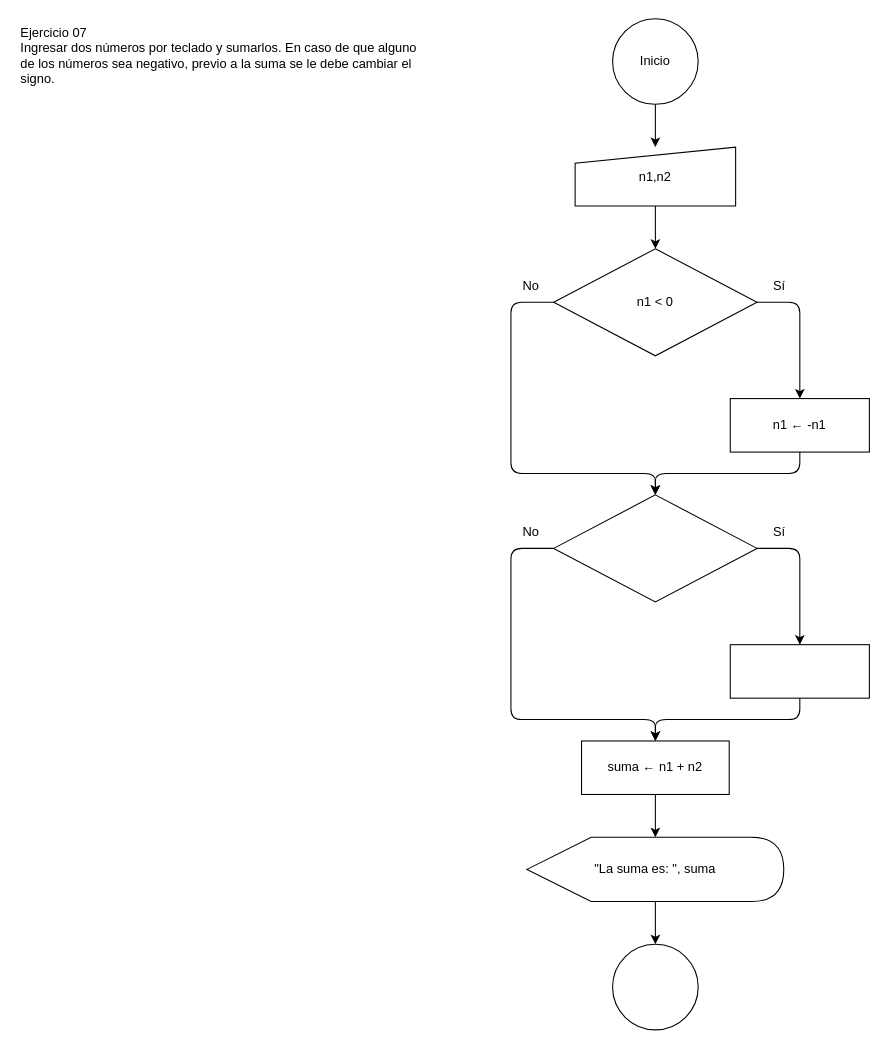
The diagram is 888 pixels wide and 1049 high, and some of its shapes have lost their labels. The centre of each missing label's shape, as x and y in pixels:
"Fin" goes at pixel 655 986.
"n2 < 0" goes at pixel 655 548.
"n2 ← -n2" goes at pixel 799 671.
